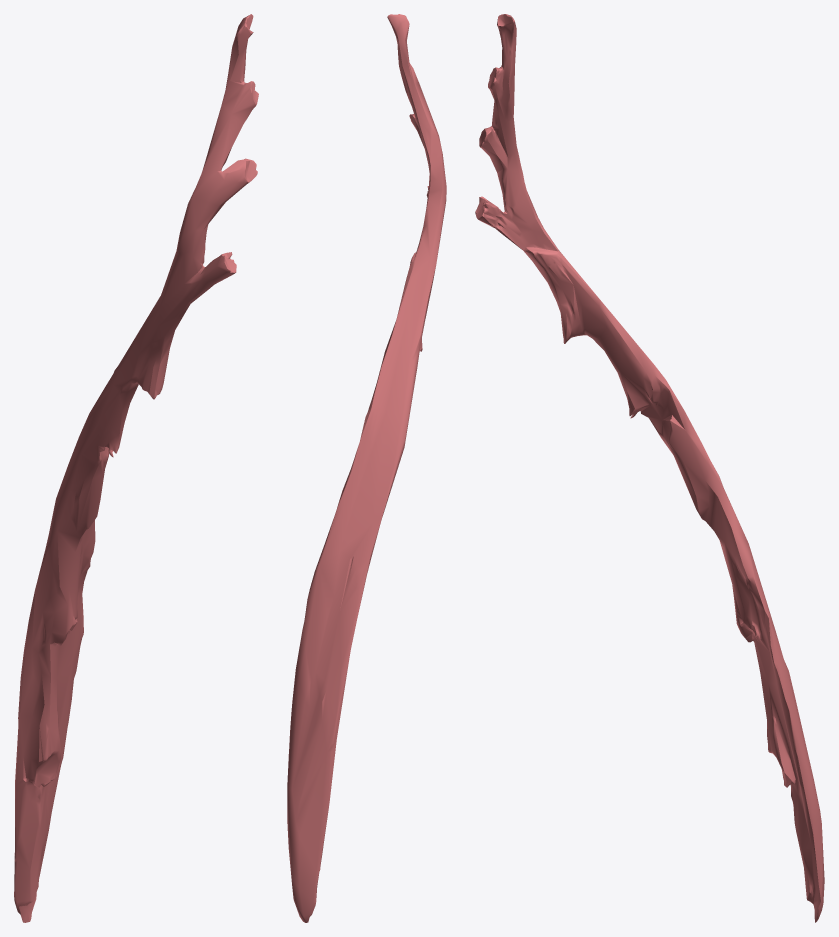
The picture shows the model from 3 angles, left to right: view 1: azimuth 30°, elevation 25°; view 2: azimuth 150°, elevation 25°; view 3: azimuth 270°, elevation 25°; orthographic projection. The views are drawn at different scales.
Visible parts, largest first — view 1: FJ1534; view 2: FJ1534; view 3: FJ1534.
Boxes of the visible parts, x1,y1,x2,y2 form: FJ1534: [14, 14, 258, 922]; FJ1534: [287, 14, 446, 922]; FJ1534: [475, 14, 824, 922].
Size of the model in its own units: 0.0198 by 0.1947 by 0.0663.
